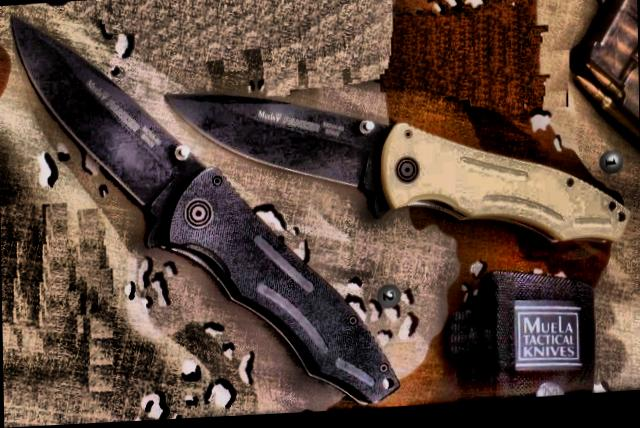knife: (8, 0, 219, 260), (158, 75, 408, 239)
